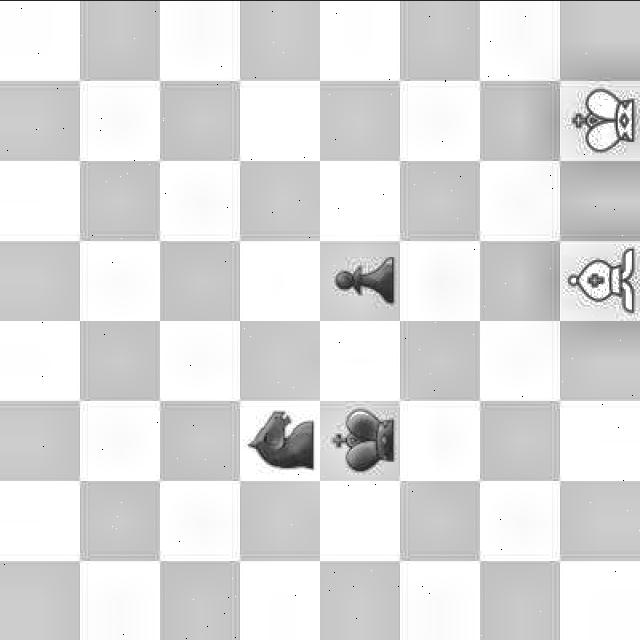Black Knight: (243, 402, 320, 476)
black king: (330, 396, 398, 482)
black pawn: (323, 246, 399, 314)
white bishop: (566, 248, 640, 316)
white king: (563, 81, 637, 156)
